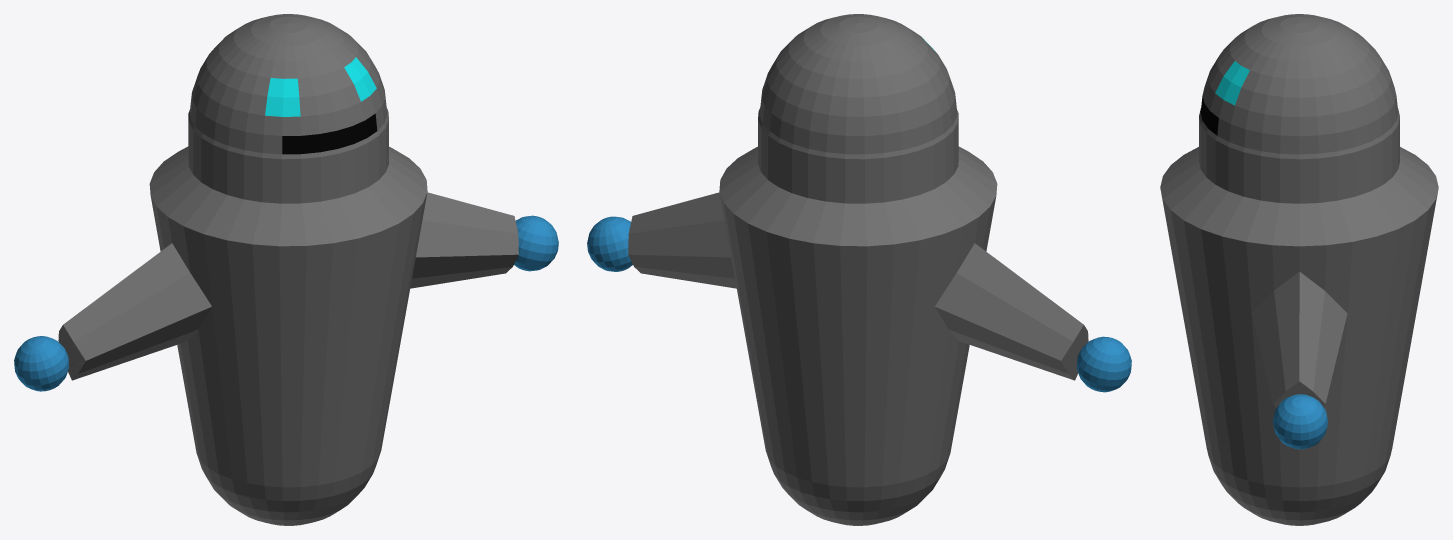
Rendered from destroyedgegner.fbx.
3 views of the same model, side by side, from view 1: azimuth 30°, elevation 25°; view 2: azimuth 150°, elevation 25°; view 3: azimuth 270°, elevation 25° (orthographic).
Visible parts, largest first — view 1: Körper, Körper_cell.048, Körper_cell.057, Körper_cell.010, Körper_cell.054, Körper_cell.049, Körper_cell.017, Körper_cell.016, Körper_cell.006, Körper_cell.011, Körper_cell.074, Körper_cell.014 (+6 smaller); view 2: Körper, Körper_cell.008, Körper_cell.033, Körper_cell.036, Körper_cell.013, Körper_cell.072, Körper_cell.060, Körper_cell.054, Körper_cell.011, Körper_cell.070, Körper_cell.035, Körper_cell.002 (+11 smaller); view 3: Körper, Körper_cell.072, Körper_cell.003, Körper_cell.017, Körper_cell.021, Körper_cell.008, Körper_cell.004, Körper_cell.034, Körper_cell.016, Körper_cell.033, Körper_cell.012, Körper_cell.080 (+7 smaller).
Part boxes in pixels (<box>): Körper: <box>14,15,558,525</box>; Körper_cell.048: <box>185,249,398,429</box>; Körper_cell.057: <box>151,206,299,320</box>; Körper_cell.010: <box>246,51,386,252</box>; Körper_cell.054: <box>188,46,289,205</box>; Körper_cell.049: <box>208,434,337,521</box>; Körper_cell.017: <box>397,166,486,344</box>; Körper_cell.016: <box>235,16,357,81</box>; Körper_cell.006: <box>162,329,274,446</box>; Körper_cell.011: <box>58,265,171,363</box>; Körper_cell.074: <box>308,414,375,505</box>; Körper_cell.014: <box>274,396,376,459</box>; Körper: <box>587,15,1131,525</box>; Körper_cell.008: <box>742,317,869,473</box>; Körper_cell.033: <box>755,131,896,265</box>; Körper_cell.036: <box>768,265,897,379</box>; Körper_cell.013: <box>801,245,915,344</box>; Körper_cell.072: <box>692,177,788,335</box>; Körper_cell.060: <box>900,164,982,326</box>; Körper_cell.054: <box>900,35,964,175</box>; Körper_cell.011: <box>957,272,1088,373</box>; Körper_cell.070: <box>778,467,928,525</box>; Körper_cell.035: <box>852,399,953,486</box>; Körper_cell.002: <box>790,46,902,137</box>; Körper: <box>1160,15,1438,525</box>; Körper_cell.072: <box>1309,203,1434,357</box>; Körper_cell.003: <box>1219,379,1355,517</box>; Körper_cell.017: <box>1180,238,1336,380</box>; Körper_cell.021: <box>1166,92,1315,251</box>; Körper_cell.008: <box>1330,320,1414,471</box>; Körper_cell.004: <box>1305,101,1406,257</box>; Körper_cell.034: <box>1264,57,1386,160</box>; Körper_cell.016: <box>1235,14,1329,74</box>; Körper_cell.033: <box>1392,100,1438,216</box>; Körper_cell.012: <box>1272,394,1328,449</box>; Körper_cell.080: <box>1270,340,1337,405</box>.
Size of the model in its own units: 6.56 by 5.76 by 2.94.
